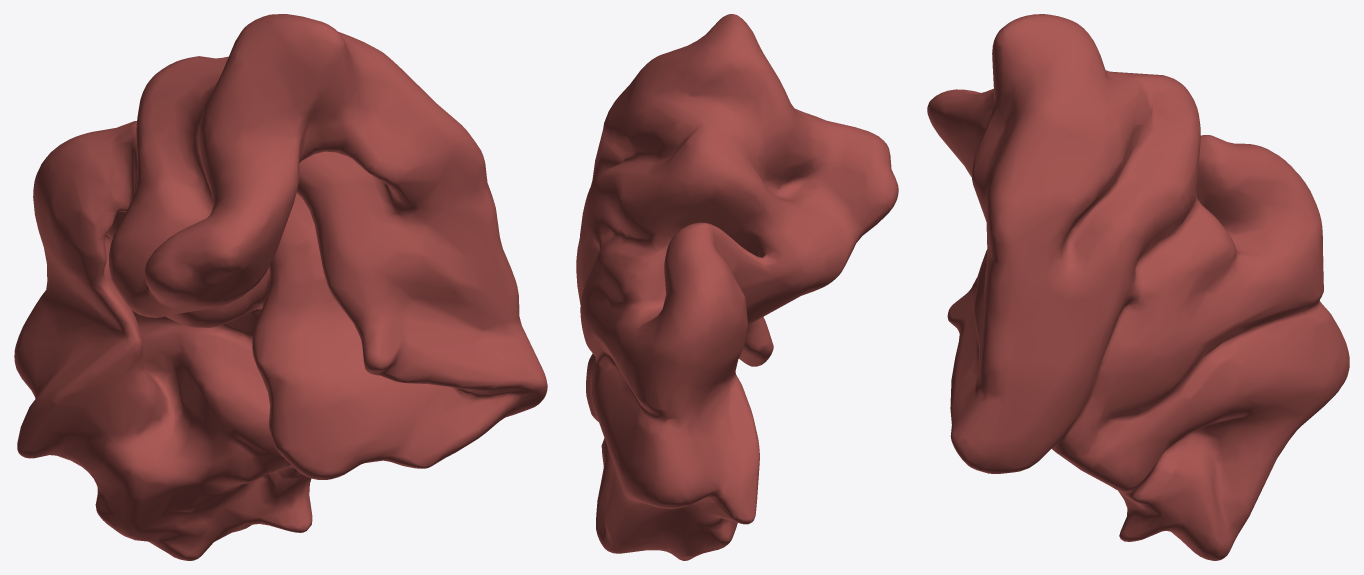
The model's file is FMA72670.glb.
The picture shows the model from 3 angles, left to right: view 1: azimuth 30°, elevation 25°; view 2: azimuth 150°, elevation 25°; view 3: azimuth 270°, elevation 25°; orthographic projection. The views are drawn at different scales.
Visible parts, largest first — view 1: FMA72670; view 2: FMA72670; view 3: FMA72670.
Part boxes in pixels (x1,y1,x2,y2): FMA72670: [14, 14, 547, 560]; FMA72670: [576, 14, 898, 560]; FMA72670: [927, 14, 1349, 560].
Size of the model in its own units: 0.0406 by 0.06 by 0.0436.
